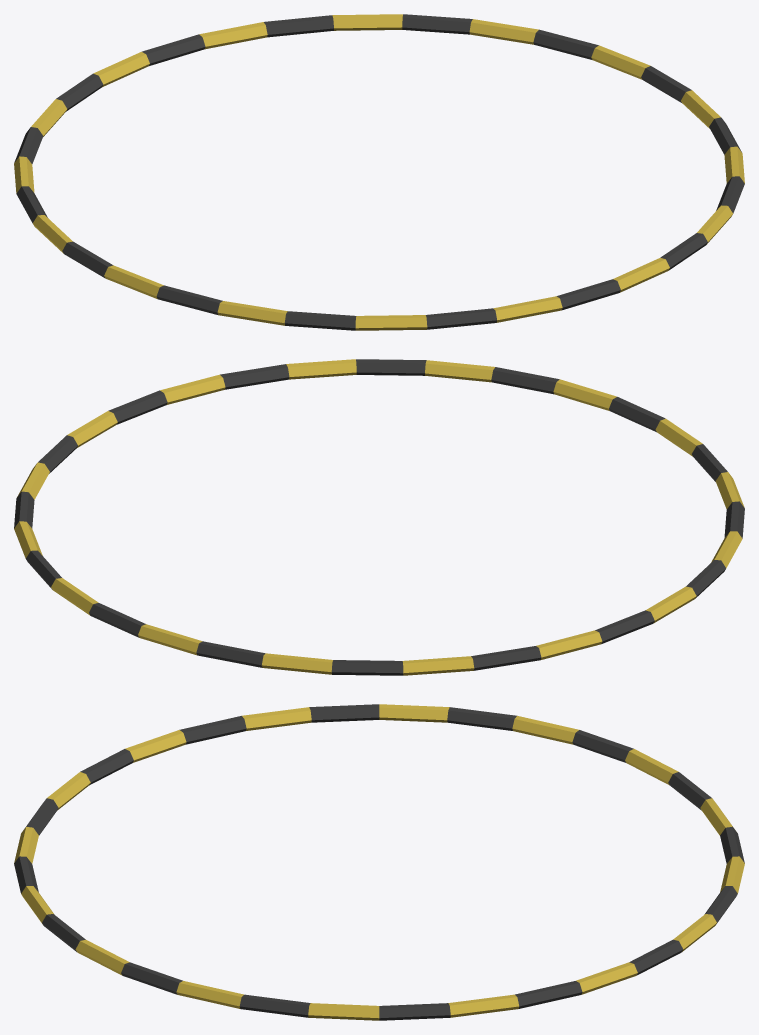
Rendered from RotatingRing.fbx.
The picture shows the model from 3 angles, top to bottom: view 1: azimuth 30°, elevation 25°; view 2: azimuth 150°, elevation 25°; view 3: azimuth 270°, elevation 25°; orthographic projection.
Visible parts, largest first — view 1: RotatingDisc_LOD0; view 2: RotatingDisc_LOD0; view 3: RotatingDisc_LOD0.
Boxes of the visible parts, left/top/right/bottom form: RotatingDisc_LOD0: left=14, top=14, right=744, bottom=330; RotatingDisc_LOD0: left=14, top=359, right=744, bottom=675; RotatingDisc_LOD0: left=14, top=704, right=744, bottom=1020.
Size of what is drawn, in the model's own units: 141811 by 2363 by 141811.
